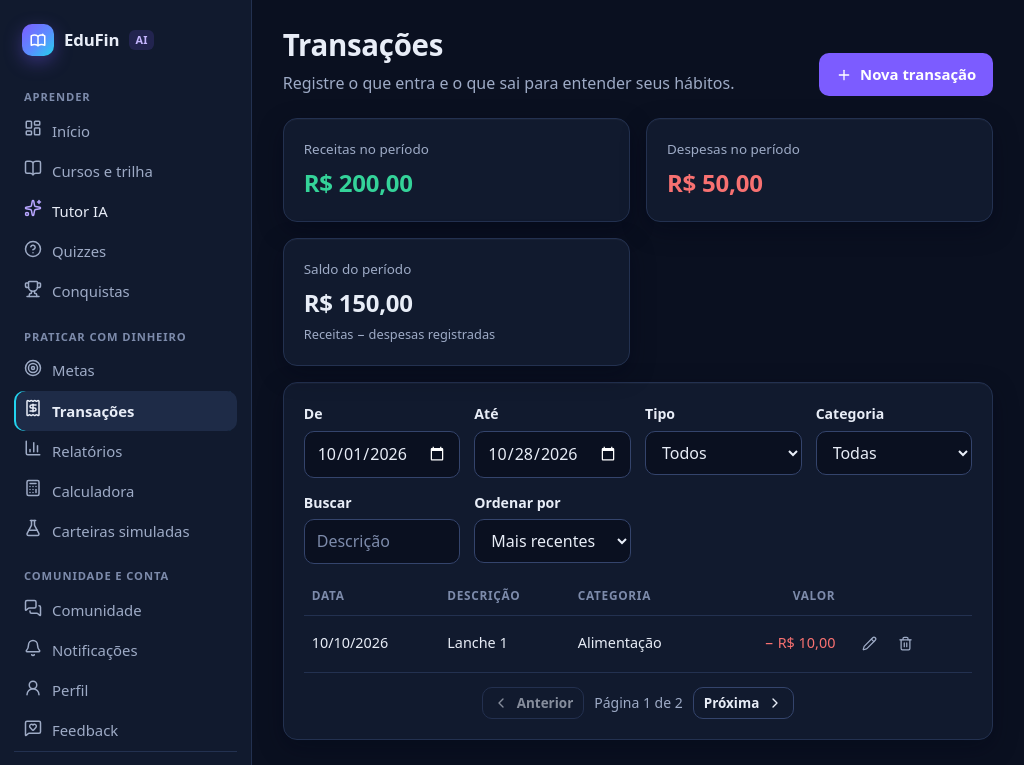
Scenario: transações › lista com paginação e mostra o resumo do período
The width and height of the screenshot is (1024, 765).
Check: the text "Lanche 1" is shown, box [439, 616, 570, 672]
Check: the text "R$ 150,00" is shown, box [304, 286, 413, 319]
Click the button with aria-label "Próxima página" at (744, 703), box [693, 686, 794, 719]
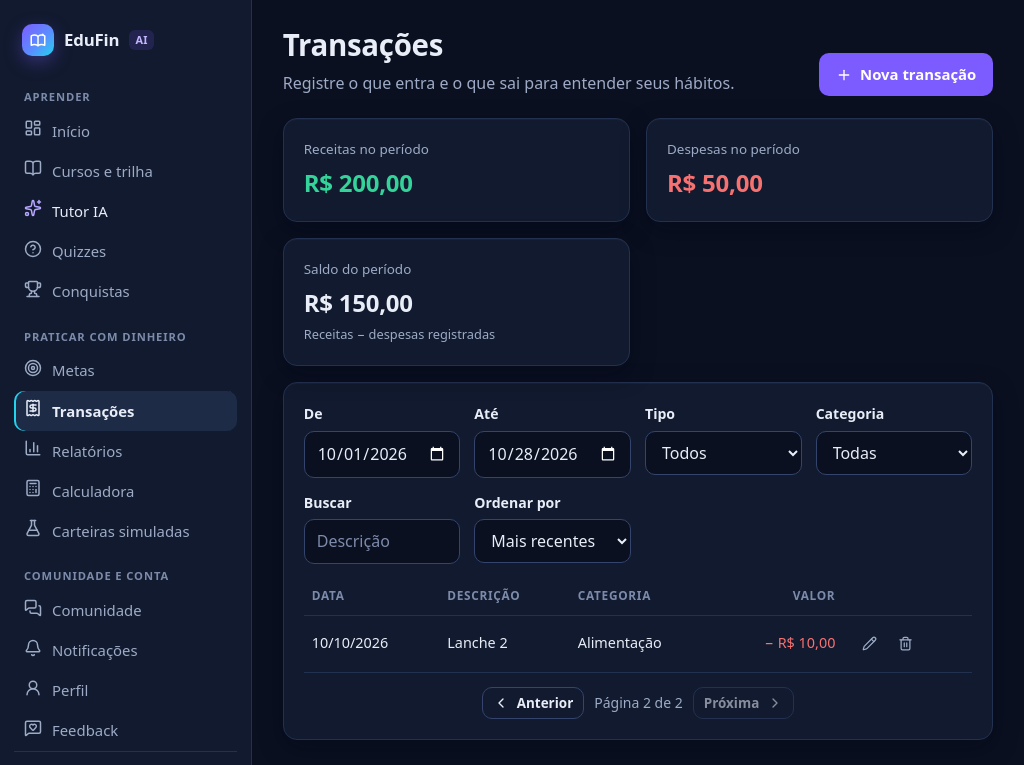
Check: the text "Lanche 2" is shown, box [439, 616, 570, 672]
